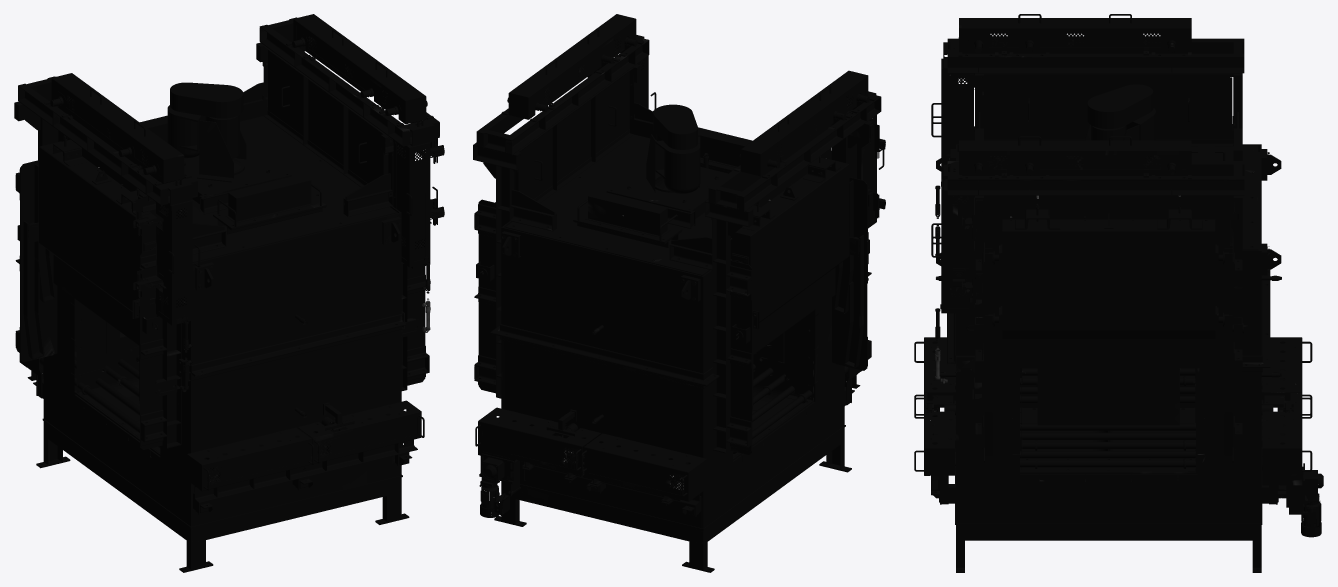
File: ANNEALING.glb
The picture shows the model from 3 angles, left to right: view 1: azimuth 30°, elevation 25°; view 2: azimuth 150°, elevation 25°; view 3: azimuth 270°, elevation 25°; orthographic projection. The views are drawn at different scales.
Visible parts, largest first — view 1: node_id4; view 2: node_id4; view 3: node_id4.
Part boxes in pixels (x1,y1,x2,y2): node_id4: (14,14,444,572); node_id4: (473,14,885,572); node_id4: (914,14,1323,572).
Size of the model in its own units: 0.3916 by 0.512 by 0.4313.
Materials: 1 (1 with a texture image).
